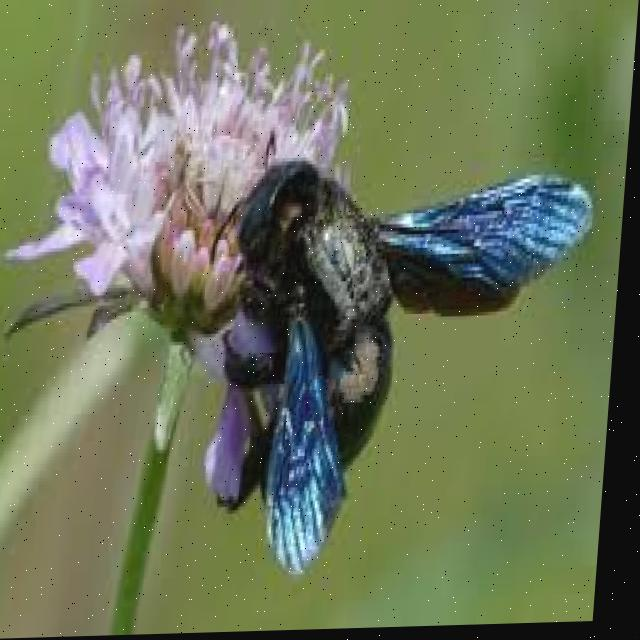Xylocopa: (170, 98, 615, 576)
